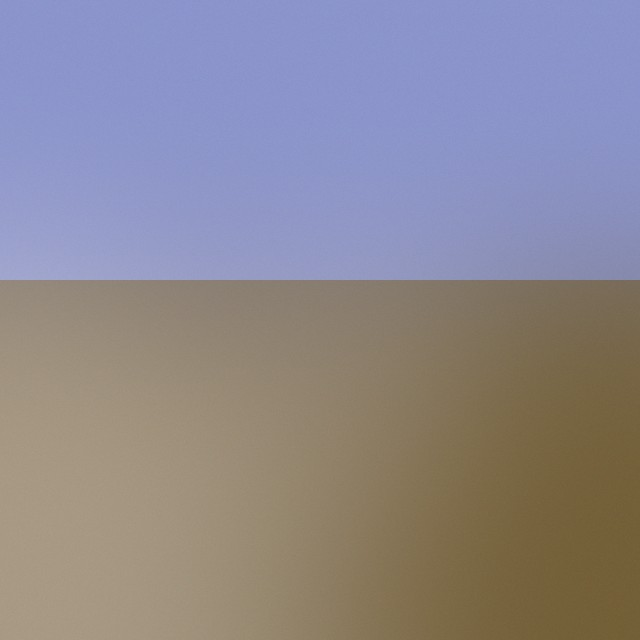smoke: (0, 247, 389, 639)
